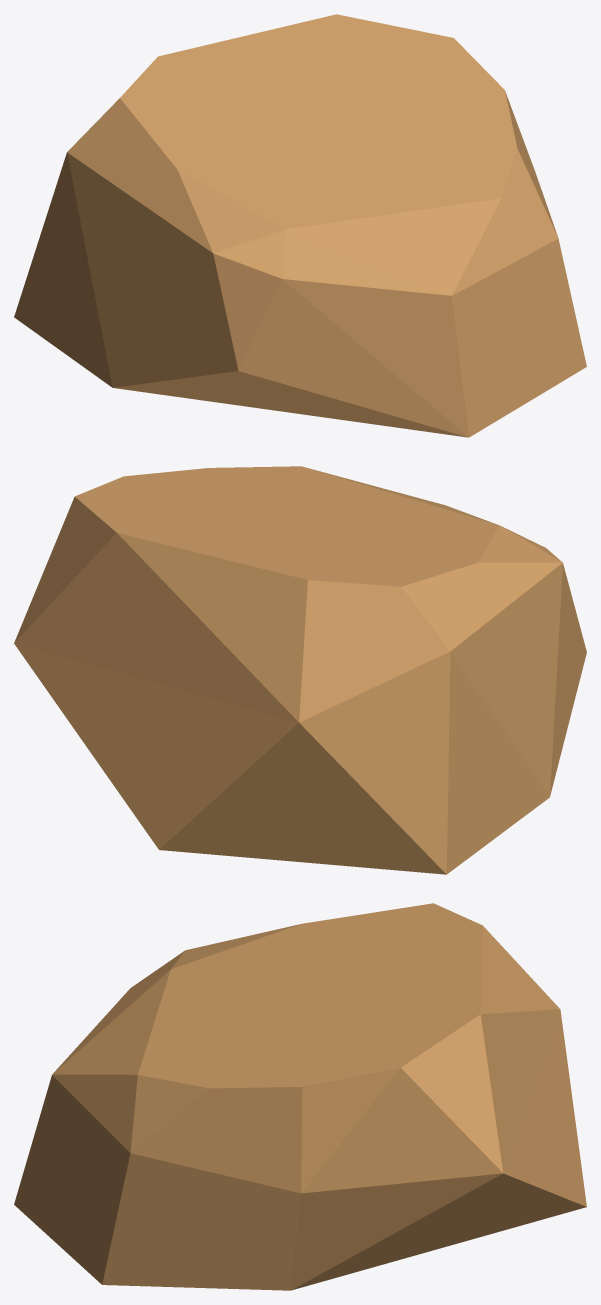
The model's file is decoration_stone_04.glb.
3 renders of one model, top to bottom at view 1: azimuth 30°, elevation 25°; view 2: azimuth 150°, elevation 25°; view 3: azimuth 270°, elevation 25°, orthographic. The views are drawn at different scales.
Parts seen in each view (by area): view 1: Plane.066; view 2: Plane.066; view 3: Plane.066.
Boxes of the visible parts, x1,y1,x2,y2 form: Plane.066: [14, 14, 586, 437]; Plane.066: [14, 466, 586, 874]; Plane.066: [14, 903, 586, 1290].
Bounding box in the file's own units: 13.6 × 7.13 × 15.53.
Materials: 1 (1 with a texture image).
